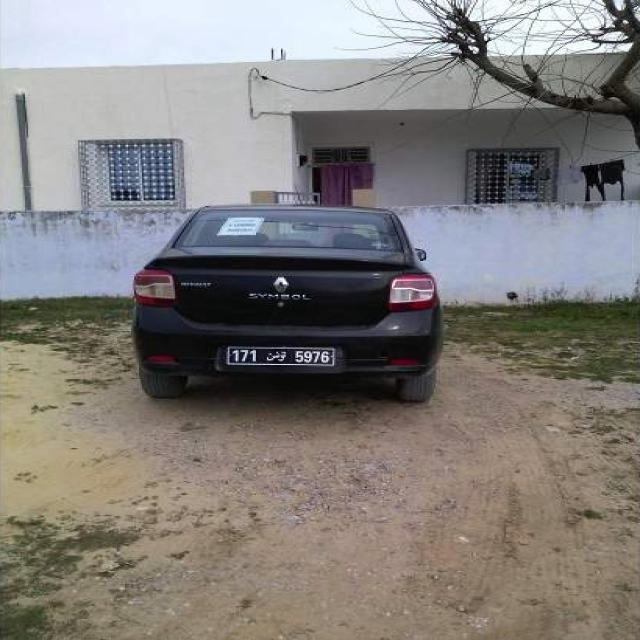licence plate: (229, 347, 336, 365)
